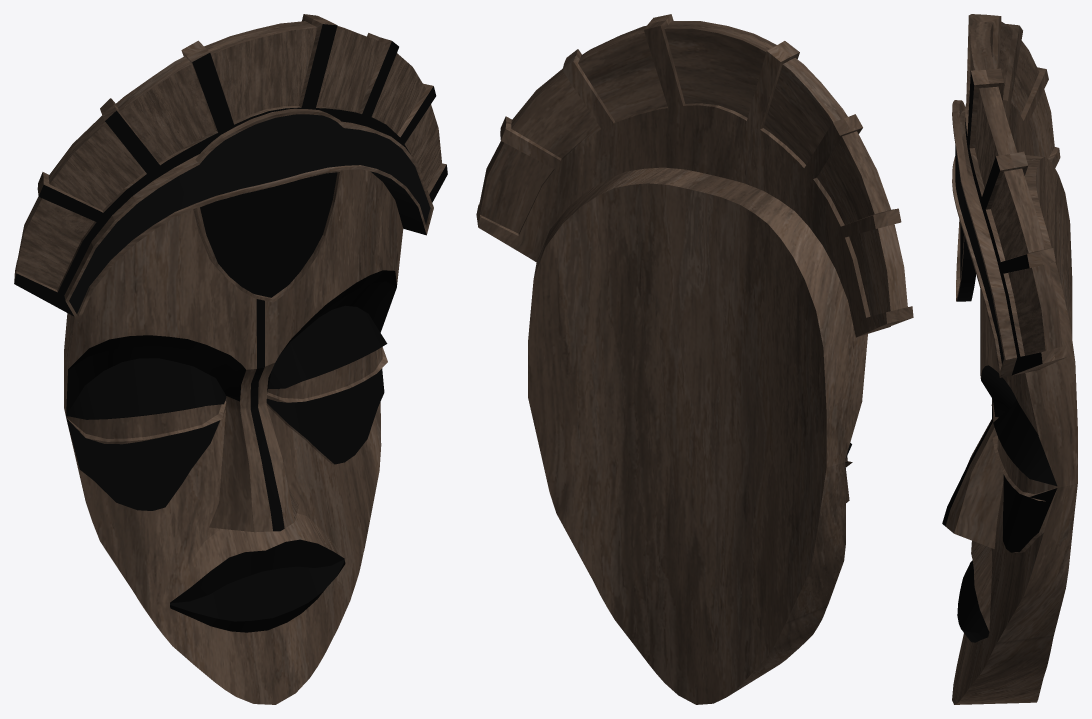
Rendered from mdl_brush_africanmask.gltf.
The picture shows the model from 3 angles, left to right: view 1: azimuth 30°, elevation 25°; view 2: azimuth 150°, elevation 25°; view 3: azimuth 270°, elevation 25°; orthographic projection.
Visible parts, largest first — view 1: SM_mask_Material #126_0.104, SM_mask_Material #126_0.151, SM_mask_Material #126_0.016, SM_mask_Material #126_0.124, SM_mask_Material #126_0.127, SM_mask_Material #126_0.094, SM_mask_Material #126_0.146, SM_mask_Material #126_0.113, SM_mask_Material #126_0.105, SM_mask_Material #126_0.140, SM_mask_Material #126_0.144, SM_mask_Material #126_0.248 (+1 smaller); view 2: SM_mask_Material #126_0.015, SM_mask_Material #126_0.030, SM_mask_Material #126_0.011, SM_mask_Material #126_0.358, SM_mask_Material #126_0.359, SM_mask_Material #126_0.360, SM_mask_Material #126_0.361, SM_mask_Material #126_0.413, SM_mask_Material #126_0.414, SM_mask_Material #126_0.415, SM_mask_Material #126_0.246, SM_mask_Material #126_0.247 (+3 smaller); view 3: SM_mask_Material #126_0.011, SM_mask_Material #126_0.104, SM_mask_Material #126_0.151, SM_mask_Material #126_0.015, SM_mask_Material #126_0.127, SM_mask_Material #126_0.146, SM_mask_Material #126_0.124, SM_mask_Material #126_0.030, SM_mask_Material #126_0.142, SM_mask_Material #126_0.141, SM_mask_Material #126_0.143, SM_mask_Material #126_0.016 (+15 smaller).
Boxes of the visible parts, left/top/right/bottom form: SM_mask_Material #126_0.104: left=66, top=169, right=403, bottom=704; SM_mask_Material #126_0.151: left=16, top=27, right=441, bottom=289; SM_mask_Material #126_0.016: left=69, top=114, right=430, bottom=313; SM_mask_Material #126_0.124: left=66, top=368, right=384, bottom=510; SM_mask_Material #126_0.127: left=66, top=305, right=387, bottom=444; SM_mask_Material #126_0.094: left=200, top=172, right=337, bottom=297; SM_mask_Material #126_0.146: left=14, top=24, right=447, bottom=316; SM_mask_Material #126_0.113: left=68, top=270, right=396, bottom=384; SM_mask_Material #126_0.105: left=170, top=561, right=345, bottom=632; SM_mask_Material #126_0.140: left=370, top=171, right=426, bottom=235; SM_mask_Material #126_0.144: left=204, top=21, right=316, bottom=54; SM_mask_Material #126_0.248: left=116, top=56, right=191, bottom=111; SM_mask_Material #126_0.015: left=528, top=183, right=826, bottom=704; SM_mask_Material #126_0.030: left=478, top=26, right=886, bottom=337; SM_mask_Material #126_0.011: left=533, top=167, right=867, bottom=696; SM_mask_Material #126_0.358: left=664, top=28, right=765, bottom=117; SM_mask_Material #126_0.359: left=578, top=33, right=667, bottom=121; SM_mask_Material #126_0.360: left=511, top=73, right=600, bottom=158; SM_mask_Material #126_0.361: left=480, top=143, right=553, bottom=233; SM_mask_Material #126_0.413: left=763, top=64, right=832, bottom=164; SM_mask_Material #126_0.414: left=817, top=137, right=874, bottom=224; SM_mask_Material #126_0.415: left=849, top=228, right=890, bottom=316; SM_mask_Material #126_0.246: left=878, top=224, right=907, bottom=310; SM_mask_Material #126_0.247: left=842, top=131, right=890, bottom=213; SM_mask_Material #126_0.011: left=955, top=155, right=1077, bottom=704; SM_mask_Material #126_0.104: left=942, top=289, right=1057, bottom=704; SM_mask_Material #126_0.151: left=970, top=42, right=1045, bottom=355; SM_mask_Material #126_0.015: left=1036, top=157, right=1072, bottom=338; SM_mask_Material #126_0.127: left=993, top=400, right=1057, bottom=501; SM_mask_Material #126_0.146: left=965, top=71, right=1042, bottom=375; SM_mask_Material #126_0.124: left=1003, top=474, right=1056, bottom=552; SM_mask_Material #126_0.030: left=997, top=16, right=1060, bottom=167; SM_mask_Material #126_0.142: left=1004, top=168, right=1045, bottom=252; SM_mask_Material #126_0.141: left=1032, top=263, right=1062, bottom=350; SM_mask_Material #126_0.143: left=979, top=86, right=1016, bottom=155; SM_mask_Material #126_0.016: left=955, top=145, right=1003, bottom=364.
Size of the model in its own units: 4.78 by 6.91 by 1.29.
8 materials, 2 textured.
